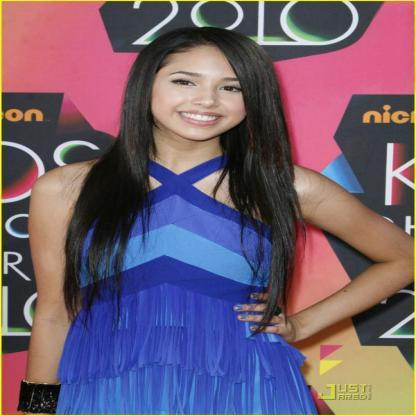long-hair: (80, 140, 301, 182)
